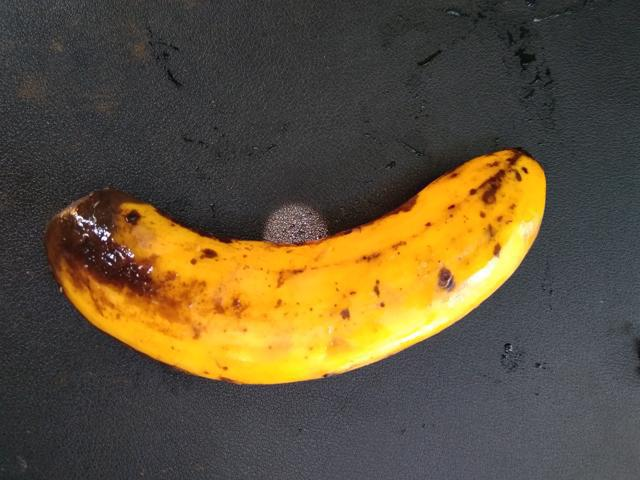ripe: (239, 138, 560, 421)
rotten: (16, 165, 280, 401)
